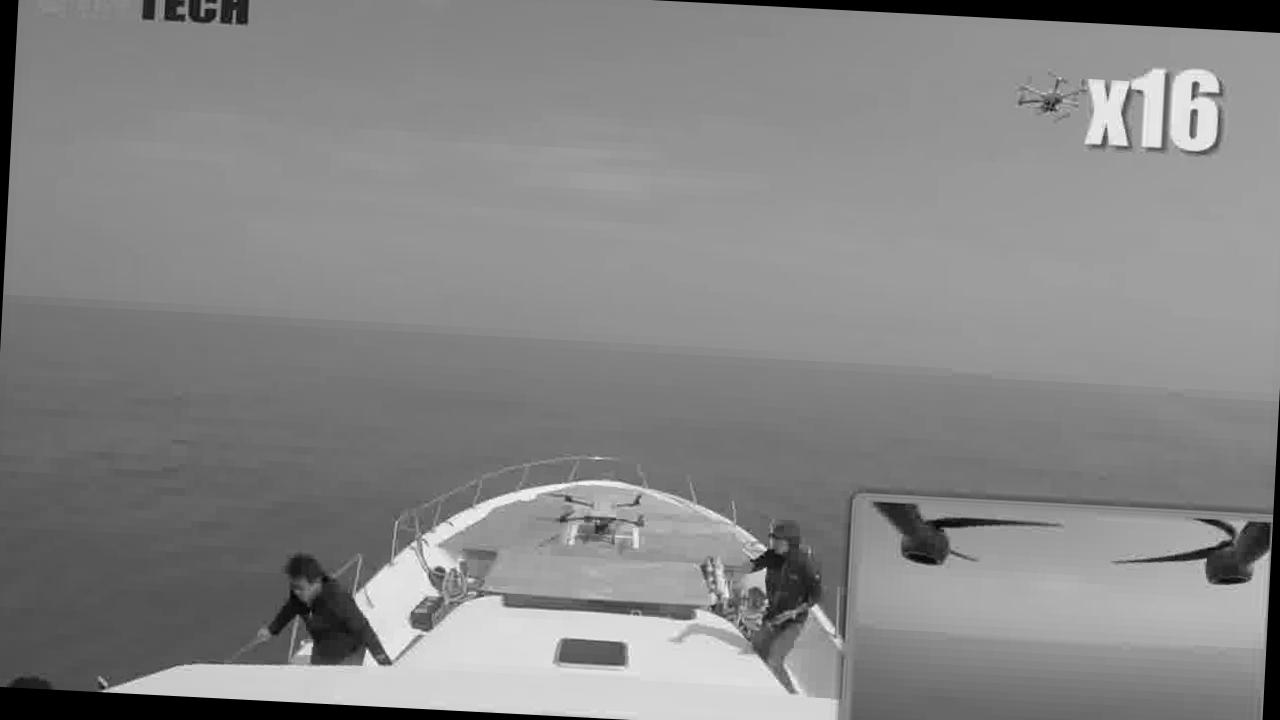drone: (540, 481, 654, 540), (1011, 61, 1091, 122)
